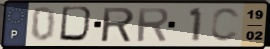0: (30, 5, 58, 44)
1: (187, 7, 203, 43)
C: (209, 6, 243, 44)
D: (57, 5, 97, 44)
R: (101, 6, 136, 44), (136, 6, 171, 43)
